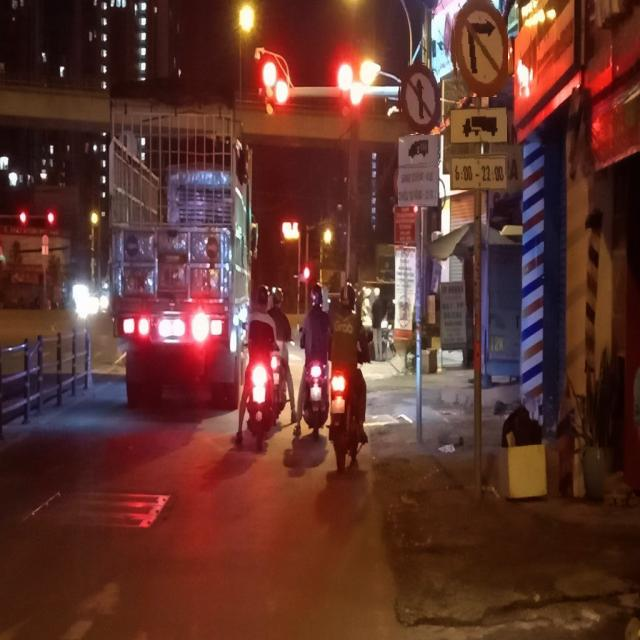cam_re_phai: (451, 0, 508, 97)
khac: (398, 62, 440, 134), (451, 154, 507, 190), (451, 108, 507, 143), (398, 168, 438, 206), (398, 136, 439, 168)
